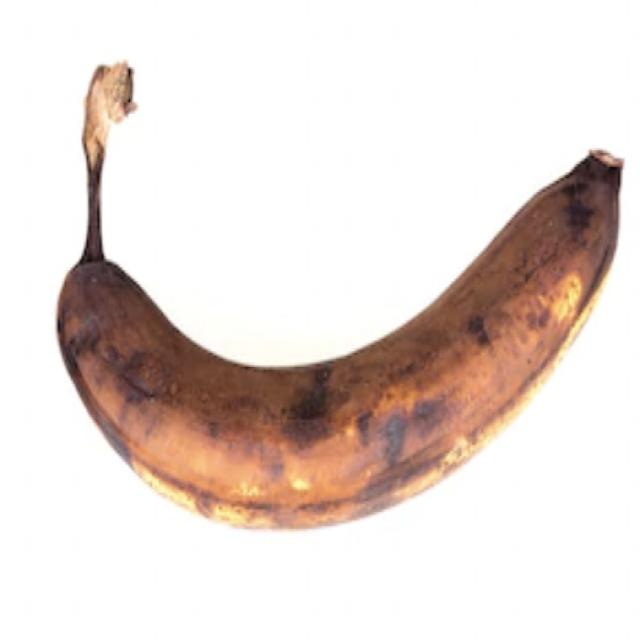rotten-banana: (58, 149, 629, 528)
